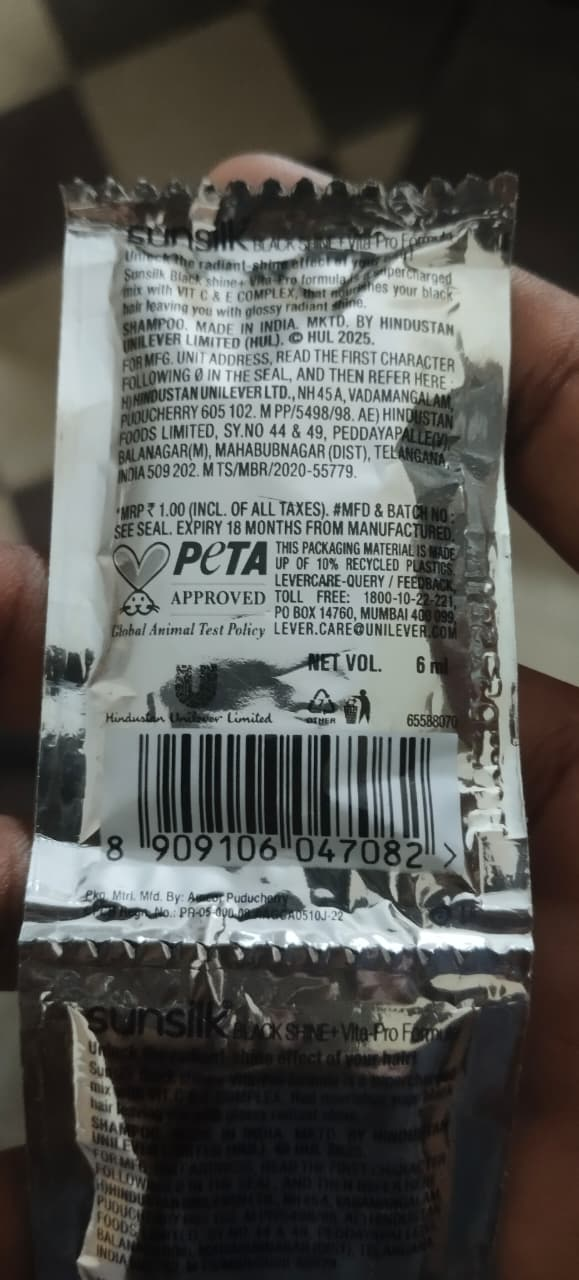brand_panel: (122, 215, 258, 254)
consumer_care: (265, 568, 466, 640)
manufacturer: (117, 316, 462, 485)
mrp: (109, 499, 328, 521)
net_qty: (299, 643, 466, 684)
origin: (192, 315, 303, 333)
